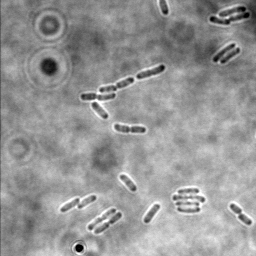Dividing: (92, 211, 123, 236), (86, 207, 116, 231), (98, 77, 135, 94), (228, 203, 253, 226), (136, 64, 166, 81), (79, 91, 117, 102), (113, 123, 147, 135)
Microcolony: (170, 187, 206, 214)
Rod: (211, 42, 236, 63), (142, 202, 161, 225), (217, 5, 247, 19), (219, 47, 242, 65), (118, 173, 137, 193), (59, 197, 80, 214), (76, 193, 97, 210), (90, 101, 109, 119), (229, 11, 252, 23), (208, 15, 231, 27)
